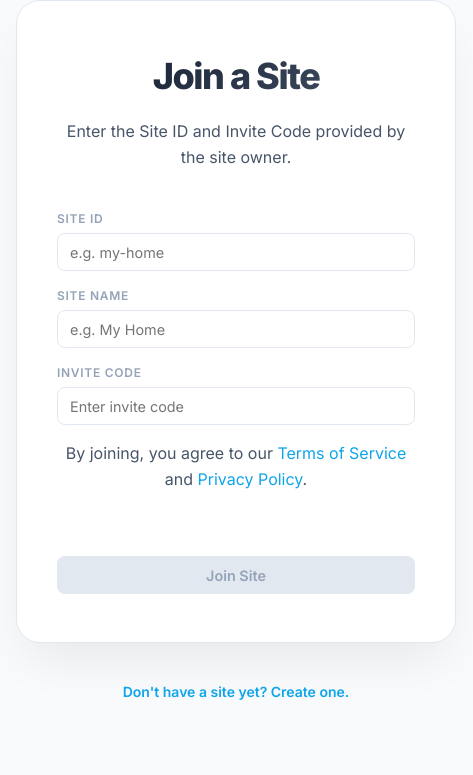
JoinSitePage Component › displays error on failed submit
In the field labelled "Site ID": (236, 252) [57, 233, 415, 271], type "my-site"
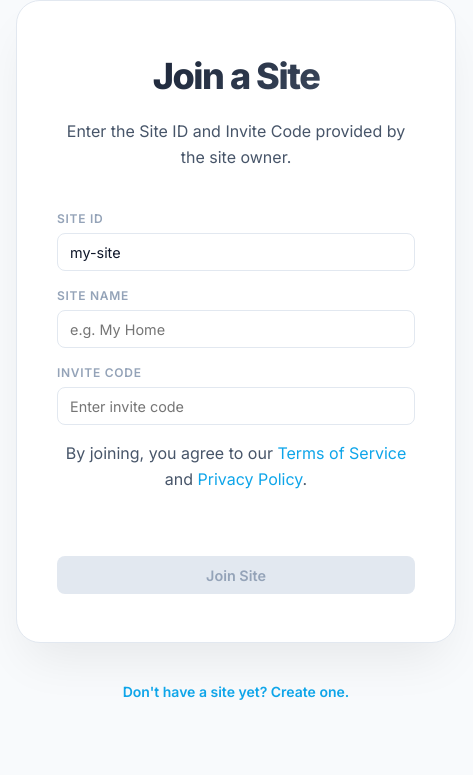
In the field labelled "Site Name": (236, 329) [57, 310, 415, 348], type "My Home"
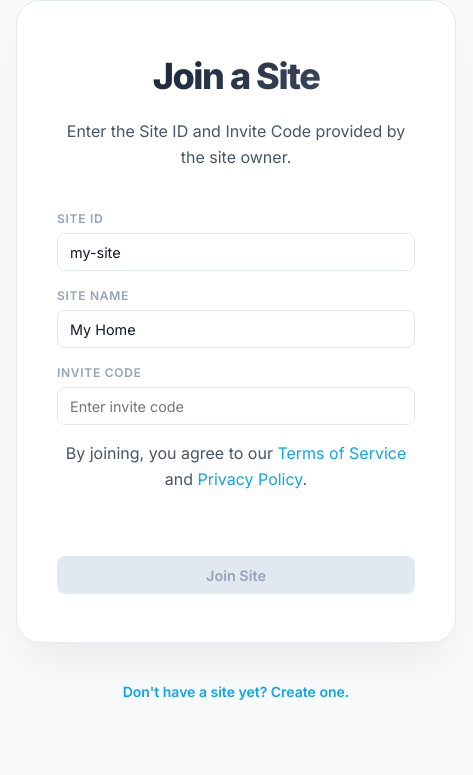
In the field labelled "Invite Code": (236, 406) [57, 387, 415, 425], type "wrong"
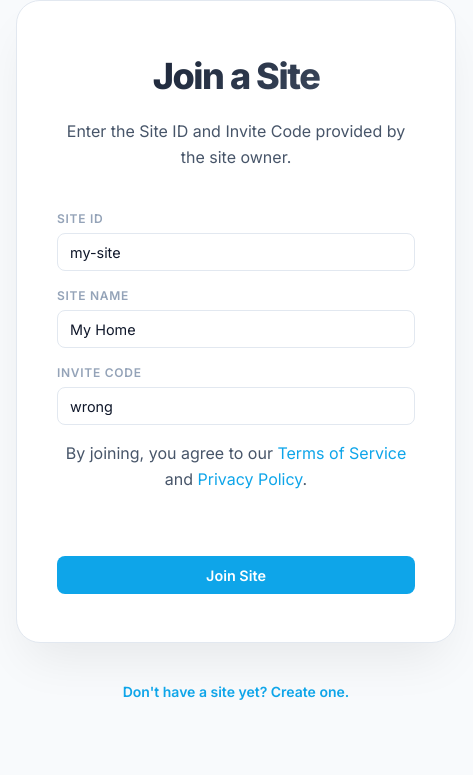
Click the button "Join Site": (236, 575) [57, 556, 415, 594]
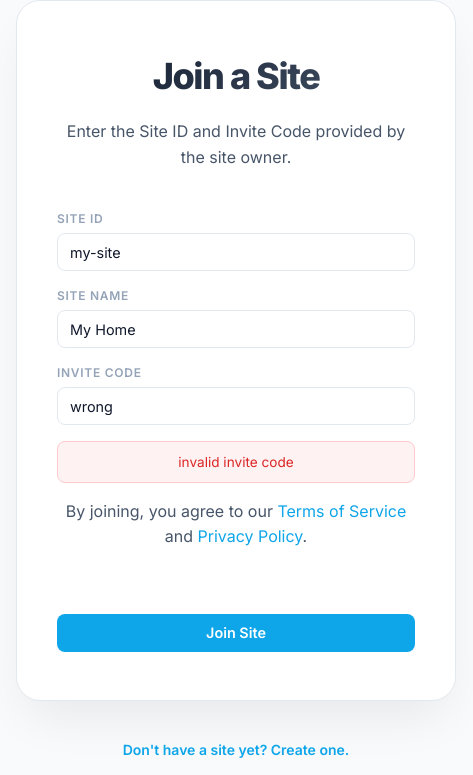
Expected: the text "invalid invite code" is shown, [57, 441, 415, 483]
